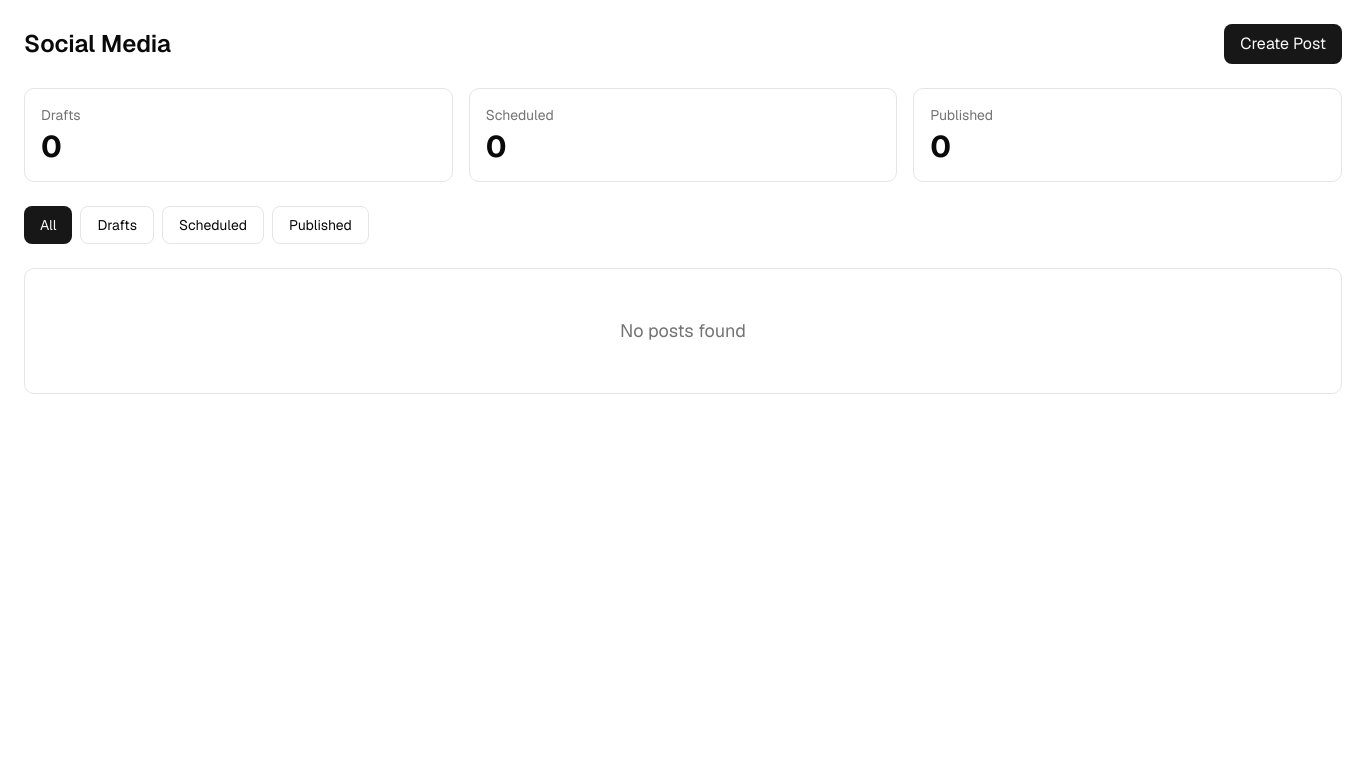
SocialMedia › opens post composer when Create Post is clicked
This screenshot has width=1366, height=768.
Click the button "Create Post": {"x": 1283, "y": 44} [1224,24,1342,64]
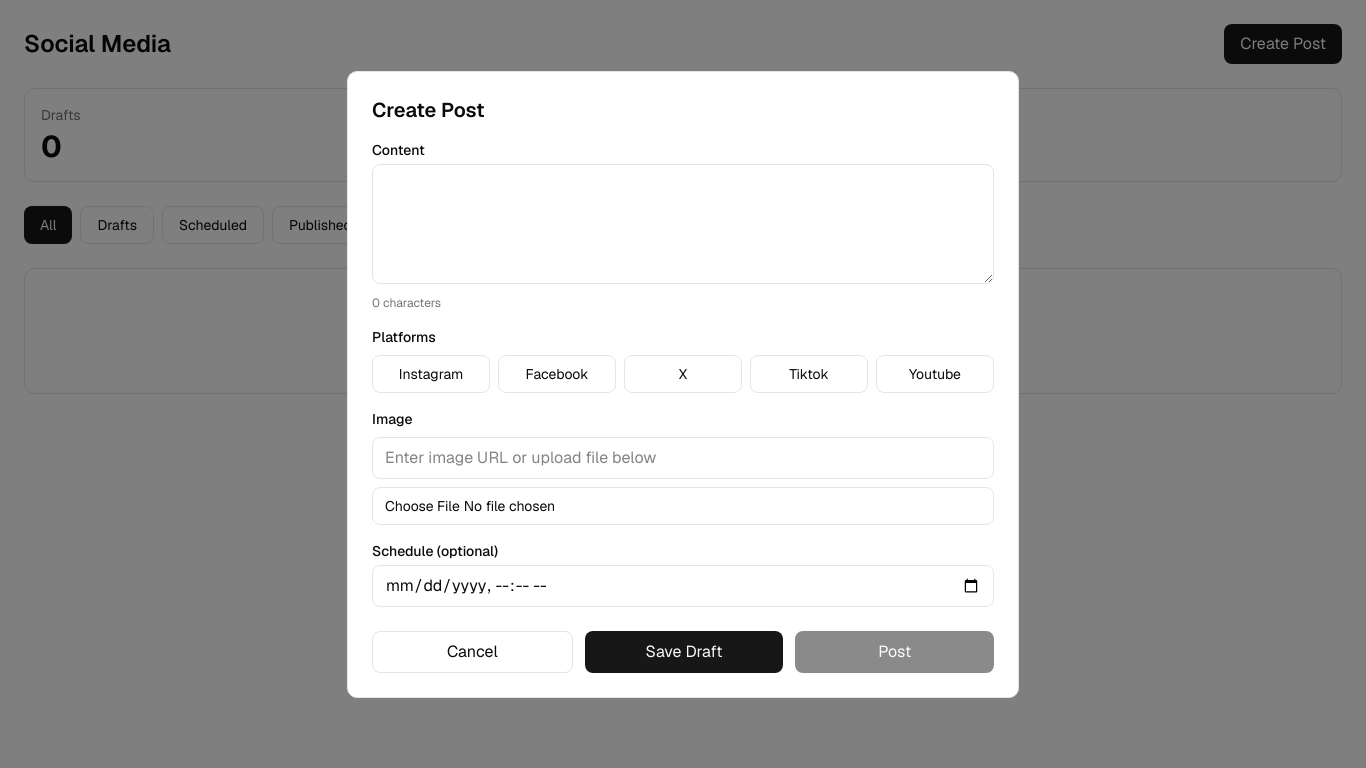
Now the text "Content" is shown, box [372,140,425,158]
Now the text "Platforms" is shown, box [372,328,436,346]
